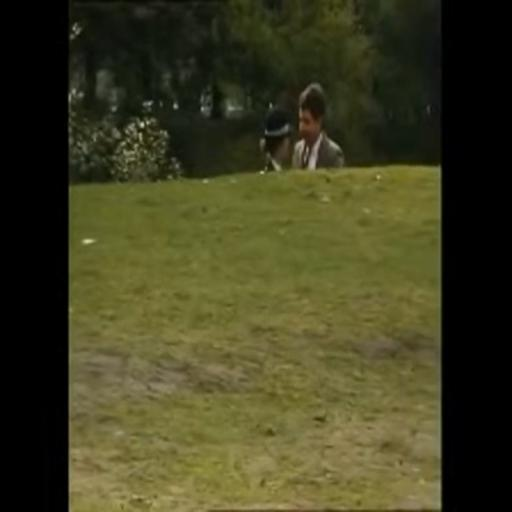nao-violencia: (246, 72, 352, 174)
